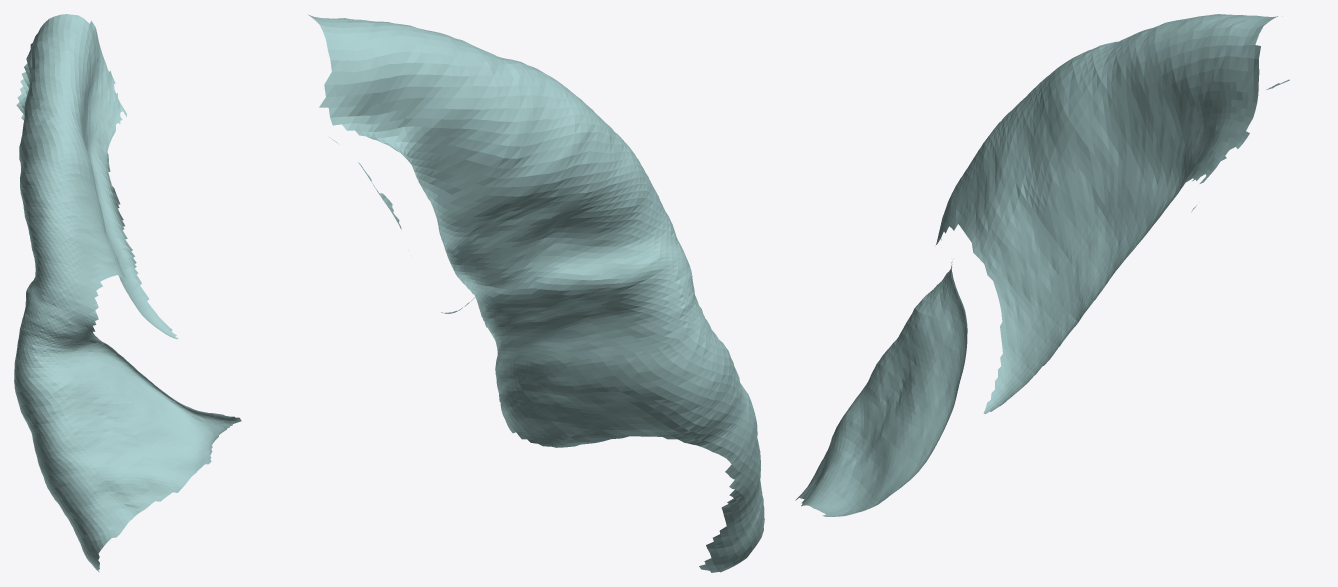
File: lh_superiortemporal.glb
The picture shows the model from 3 angles, left to right: view 1: azimuth 30°, elevation 25°; view 2: azimuth 150°, elevation 25°; view 3: azimuth 270°, elevation 25°; orthographic projection. The views are drawn at different scales.
Visible parts, largest first — view 1: world; view 2: world; view 3: world.
Boxes of the visible parts, <box> form: world: <box>14,14,241,572</box>; world: <box>307,14,764,572</box>; world: <box>795,14,1289,516</box>.
Size of the model in its own units: 34.08 by 73.52 by 55.79.
